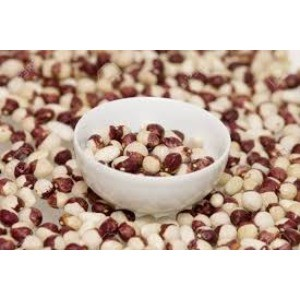beans_brain food: (94, 113, 200, 173)
